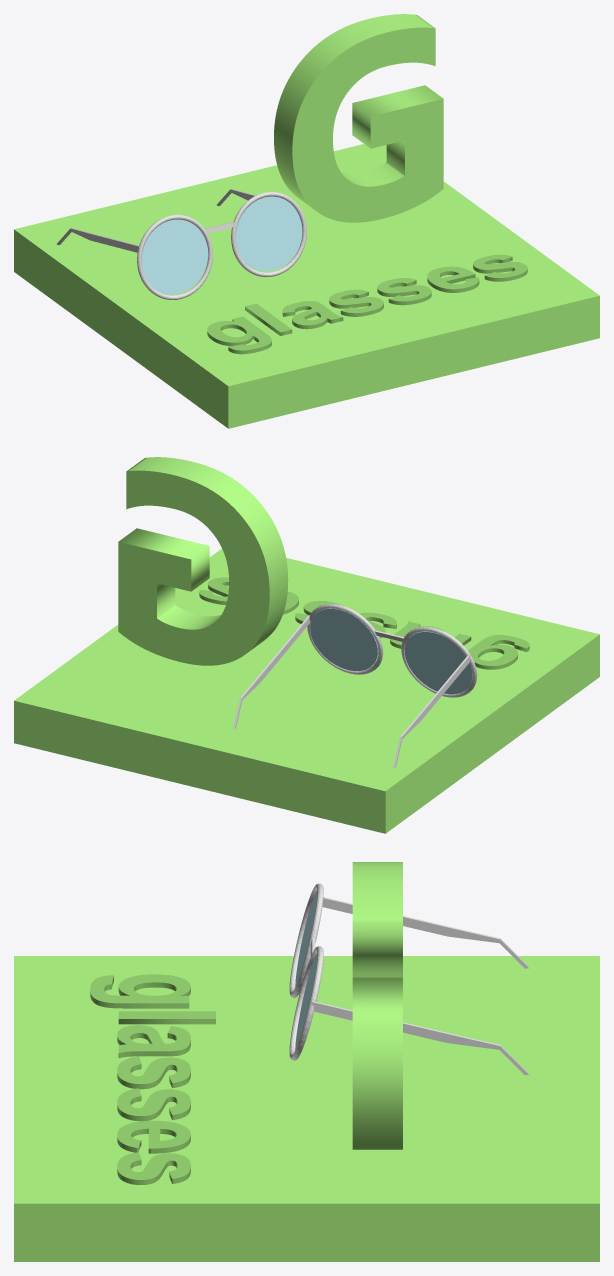
Rendered from gletter.glb.
3 views of the same model, one above another, from view 1: azimuth 30°, elevation 25°; view 2: azimuth 150°, elevation 25°; view 3: azimuth 270°, elevation 25° (orthographic). The views are drawn at different scales.
Parts seen in each view (by area): view 1: Cube.022, Text.004, Text.005, Cylinder.009, Cylinder, Torus.002, Torus.001, Cube.017; view 2: Cube.022, Text.004, Text.005, Cylinder.009, Cylinder, Torus.002, Torus.001, Cube.017, Cube.021; view 3: Cube.022, Text.004, Text.005, Cube.021, Cube.017, Torus.001, Torus.002, Cylinder, Cylinder.009.
Part boxes in pixels (left/top/right/bottom): Cube.022: left=14, top=144, right=599, bottom=428; Text.004: left=274, top=14, right=443, bottom=222; Text.005: left=207, top=254, right=527, bottom=354; Cylinder.009: left=235, top=196, right=302, bottom=271; Cylinder: left=141, top=219, right=208, bottom=294; Torus.002: left=137, top=214, right=212, bottom=299; Torus.001: left=231, top=192, right=306, bottom=277; Cube.017: left=56, top=228, right=139, bottom=252; Cube.022: left=14, top=548, right=599, bottom=833; Text.004: left=118, top=457, right=288, bottom=665; Text.005: left=199, top=577, right=529, bottom=669; Cylinder.009: left=310, top=608, right=378, bottom=670; Cylinder: left=405, top=631, right=472, bottom=694; Torus.002: left=401, top=627, right=477, bottom=697; Torus.001: left=307, top=604, right=383, bottom=674; Cube.017: left=393, top=654, right=470, bottom=768; Cube.021: left=233, top=615, right=310, bottom=729; Cube.022: left=14, top=956, right=599, bottom=1261; Text.004: left=352, top=862, right=402, bottom=1149; Text.005: left=90, top=974, right=215, bottom=1184; Cube.021: left=311, top=1001, right=529, bottom=1075; Cube.017: left=322, top=897, right=529, bottom=968; Torus.001: left=289, top=946, right=323, bottom=1060; Torus.002: left=289, top=883, right=323, bottom=997; Cylinder: left=295, top=890, right=317, bottom=986; Cylinder.009: left=295, top=953, right=317, bottom=1049.
Size of the model in its own units: 0.3237 by 0.1971 by 0.3237.
